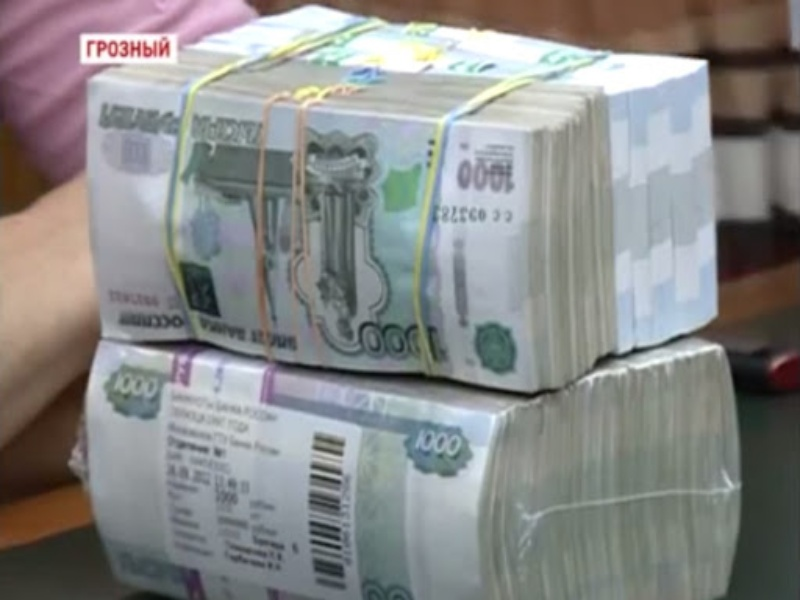cash: (86, 4, 718, 394), (86, 338, 743, 600)
